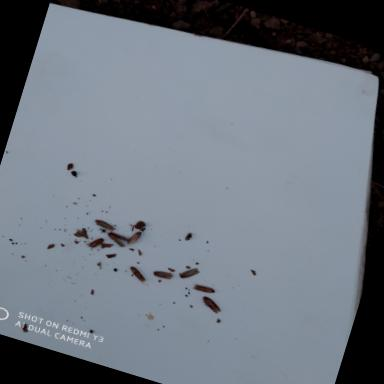pbw: (124, 264, 152, 287), (104, 232, 127, 248), (85, 234, 105, 252), (92, 218, 116, 232), (152, 267, 174, 282), (126, 228, 143, 247)
